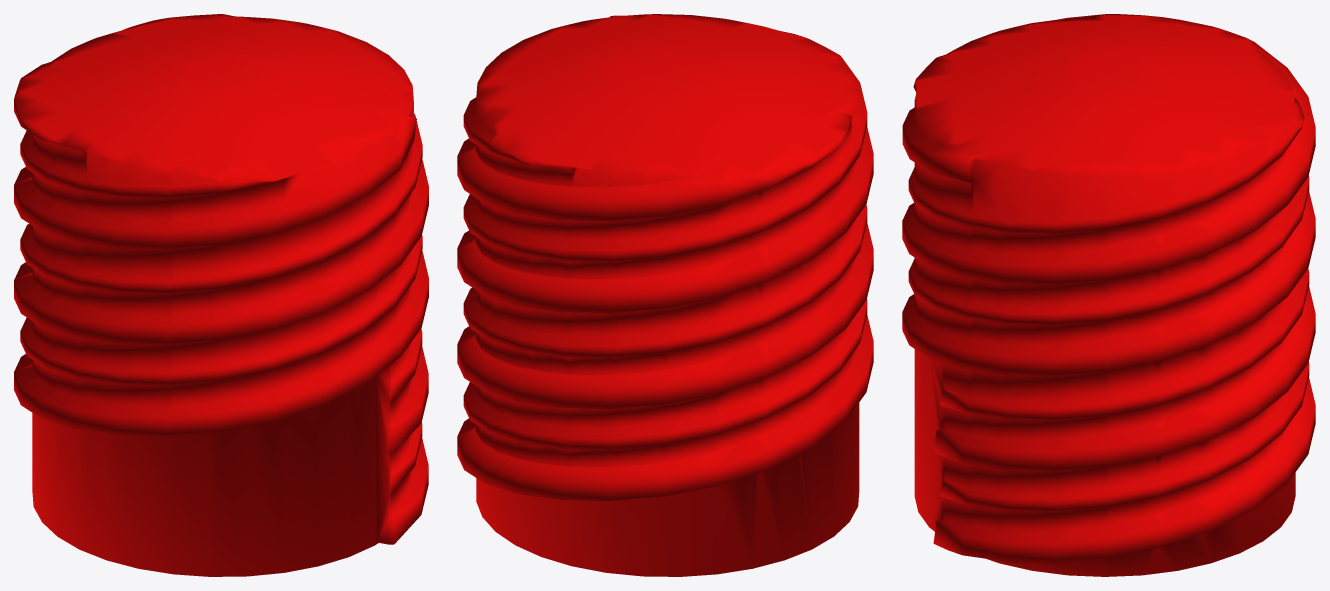
The model's file is vox_cave_elevator01_12x12x8_sub.fbx.
The picture shows the model from 3 angles, left to right: view 1: azimuth 30°, elevation 25°; view 2: azimuth 150°, elevation 25°; view 3: azimuth 270°, elevation 25°; orthographic projection.
Parts seen in each view (by area): view 1: vox_cave_elevator01_12x12x8_sub; view 2: vox_cave_elevator01_12x12x8_sub; view 3: vox_cave_elevator01_12x12x8_sub.
Boxes of the visible parts, <box> form: vox_cave_elevator01_12x12x8_sub: <box>14,14,428,576</box>; vox_cave_elevator01_12x12x8_sub: <box>457,14,873,576</box>; vox_cave_elevator01_12x12x8_sub: <box>902,14,1315,576</box>.
Bounding box in the file's own units: 495 × 577 × 495.
